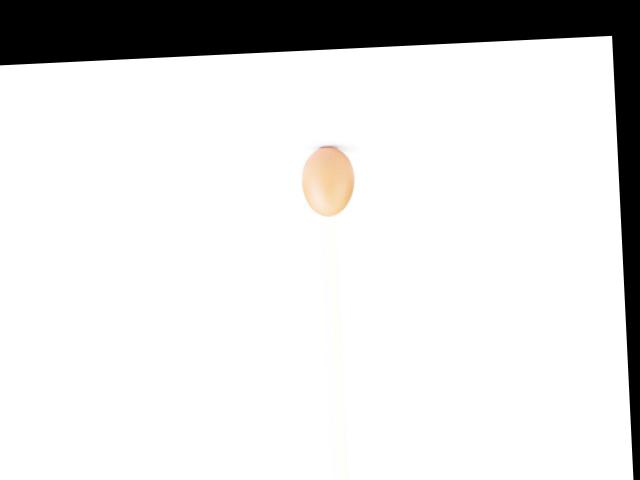egg: (301, 145, 355, 217)
